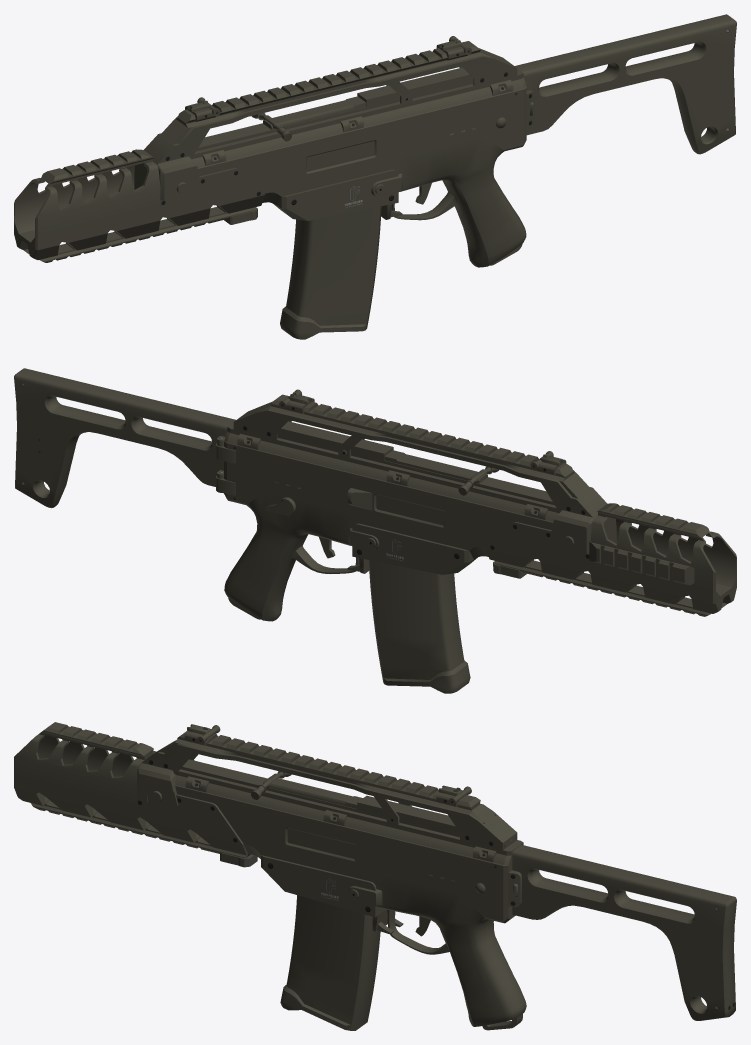
File: weapon_specialcarbine_mk2.glb
3 renders of one model, top to bottom at view 1: azimuth 30°, elevation 25°; view 2: azimuth 150°, elevation 25°; view 3: azimuth 330°, elevation 25°, orthographic.
Visible parts, largest first — view 1: main_frame_specialcarbine_mk2, stock_specialcarbine_mk2, rail_specialcarbine_mk2, magazine_specialcarbine_mk2, grip_specialcarbine_mk2; view 2: main_frame_specialcarbine_mk2, stock_specialcarbine_mk2, rail_specialcarbine_mk2, magazine_specialcarbine_mk2, grip_specialcarbine_mk2; view 3: main_frame_specialcarbine_mk2, stock_specialcarbine_mk2, rail_specialcarbine_mk2, magazine_specialcarbine_mk2, grip_specialcarbine_mk2.
Part boxes in pixels (left/top/right/bottom): main_frame_specialcarbine_mk2: left=144, top=41, right=526, bottom=225; stock_specialcarbine_mk2: left=515, top=14, right=736, bottom=154; rail_specialcarbine_mk2: left=14, top=149, right=257, bottom=262; magazine_specialcarbine_mk2: left=280, top=206, right=381, bottom=339; grip_specialcarbine_mk2: left=391, top=136, right=526, bottom=267; main_frame_specialcarbine_mk2: left=224, top=394, right=607, bottom=579; stock_specialcarbine_mk2: left=14, top=368, right=235, bottom=508; rail_specialcarbine_mk2: left=493, top=503, right=736, bottom=616; magazine_specialcarbine_mk2: left=368, top=560, right=470, bottom=693; grip_specialcarbine_mk2: left=224, top=490, right=359, bottom=621; main_frame_specialcarbine_mk2: left=137, top=730, right=523, bottom=934; stock_specialcarbine_mk2: left=508, top=845, right=736, bottom=1020; rail_specialcarbine_mk2: left=14, top=722, right=257, bottom=867; magazine_specialcarbine_mk2: left=280, top=895, right=380, bottom=1030; grip_specialcarbine_mk2: left=377, top=873, right=526, bottom=1030.
Bounding box in the file's own units: 85.56 × 30.19 × 7.15.
3 materials, 3 textured.
